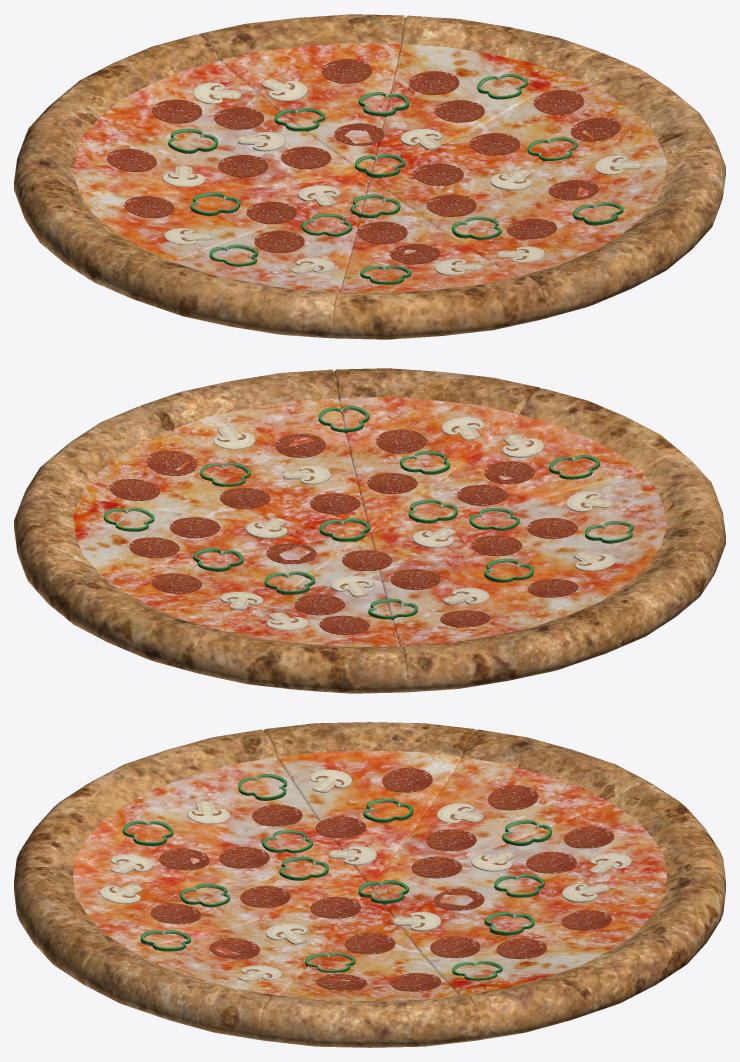
Rendered from Pizza.fbx.
3 views of the same model, one above another, from view 1: azimuth 30°, elevation 25°; view 2: azimuth 150°, elevation 25°; view 3: azimuth 270°, elevation 25° (orthographic).
Parts seen in each view (by area): view 1: pizza, pepperoni_4, pepperoni_7, pepperoni_19, pepperoni_5, pepperoni_17, pepperoni_6, pepperoni_9, pepperoni_21, pepperoni_1, pepperoni_11, pepperoni_18 (+22 smaller); view 2: pizza, pepperoni_8, pepperoni_2, pepperoni_12, pepperoni_7, pepperoni_10, pepperoni_20, pepperoni_13, pepperoni_1, pepperoni_11, pepperoni_15, pepperoni_9 (+23 smaller); view 3: pizza, pepperoni_17, pepperoni_16, pepperoni_1, pepperoni_21, pepperoni_14, pepperoni_6, pepperoni_19, pepperoni_15, pepperoni_18, pepperoni_20, pepperoni_11 (+24 smaller).
Boxes of the visible parts, left/top/right/bottom form: pizza: left=14, top=14, right=725, bottom=339; pepperoni_4: left=321, top=59, right=371, bottom=83; pepperoni_7: left=533, top=90, right=584, bottom=114; pepperoni_19: left=152, top=99, right=202, bottom=123; pepperoni_5: left=409, top=71, right=459, bottom=94; pepperoni_17: left=106, top=148, right=156, bottom=171; pepperoni_6: left=434, top=100, right=484, bottom=122; pepperoni_9: left=413, top=163, right=463, bottom=185; pepperoni_21: left=280, top=146, right=331, bottom=168; pepperoni_1: left=469, top=133, right=520, bottom=155; pepperoni_11: left=426, top=194, right=476, bottom=216; pepperoni_18: left=218, top=154, right=268, bottom=177; pizza: left=14, top=368, right=725, bottom=693; pepperoni_8: left=147, top=450, right=197, bottom=475; pepperoni_2: left=376, top=429, right=426, bottom=453; pepperoni_12: left=484, top=461, right=534, bottom=484; pepperoni_7: left=110, top=479, right=160, bottom=500; pepperoni_10: left=275, top=433, right=325, bottom=457; pepperoni_20: left=294, top=594, right=344, bottom=615; pepperoni_13: left=457, top=484, right=507, bottom=505; pepperoni_1: left=220, top=487, right=270, bottom=508; pepperoni_11: left=367, top=473, right=417, bottom=493; pepperoni_15: left=472, top=535, right=522, bottom=556; pepperoni_9: left=310, top=493, right=360, bottom=514; pizza: left=14, top=722, right=725, bottom=1047; pepperoni_17: left=488, top=785, right=538, bottom=810; pepperoni_16: left=382, top=767, right=432, bottom=792; pepperoni_1: left=344, top=932, right=395, bottom=954; pepperoni_21: left=411, top=856, right=461, bottom=878; pepperoni_14: left=252, top=804, right=302, bottom=826; pepperoni_6: left=430, top=936, right=480, bottom=957; pepperoni_19: left=563, top=826, right=614, bottom=848; pepperoni_15: left=315, top=816, right=366, bottom=837; pepperoni_18: left=426, top=829, right=476, bottom=850; pepperoni_20: left=526, top=851, right=576, bottom=873; pepperoni_11: left=240, top=886, right=290, bottom=907.
Bounding box in the file's own units: 0.6249 × 0.0381 × 0.6247.
Materials: 1 (1 with a texture image).
